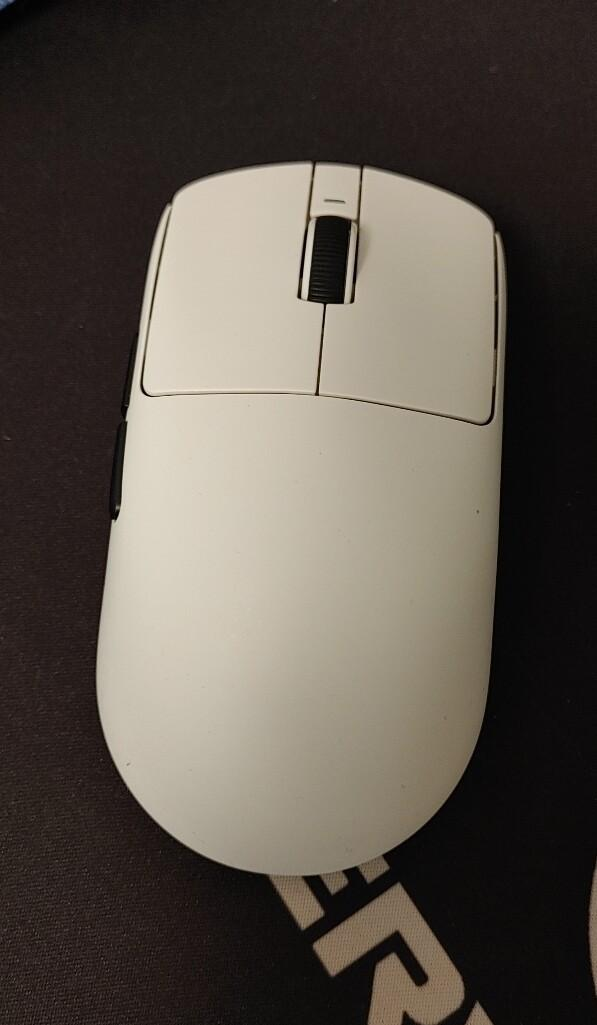mouse: (94, 157, 508, 876)
